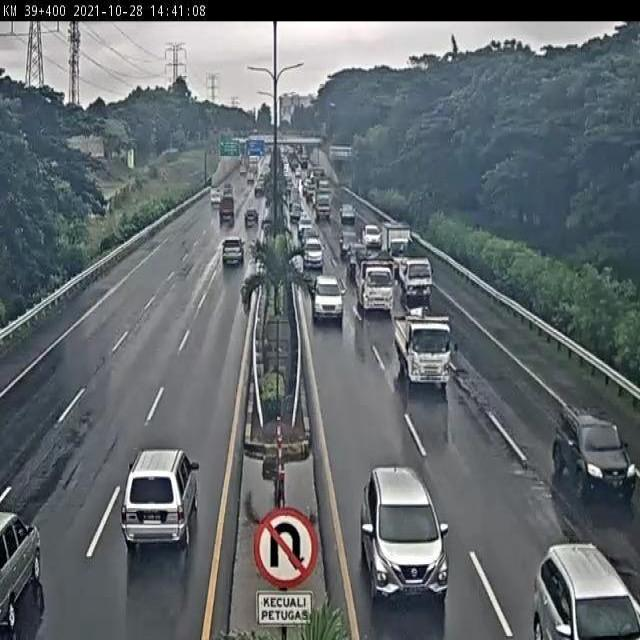car: (359, 464, 449, 600), (551, 406, 638, 498), (310, 273, 344, 324)
mid truck: (120, 447, 199, 549), (220, 235, 245, 269)
truck-m-: (394, 315, 452, 389), (355, 256, 396, 315)
truck-s-: (395, 253, 433, 300)
